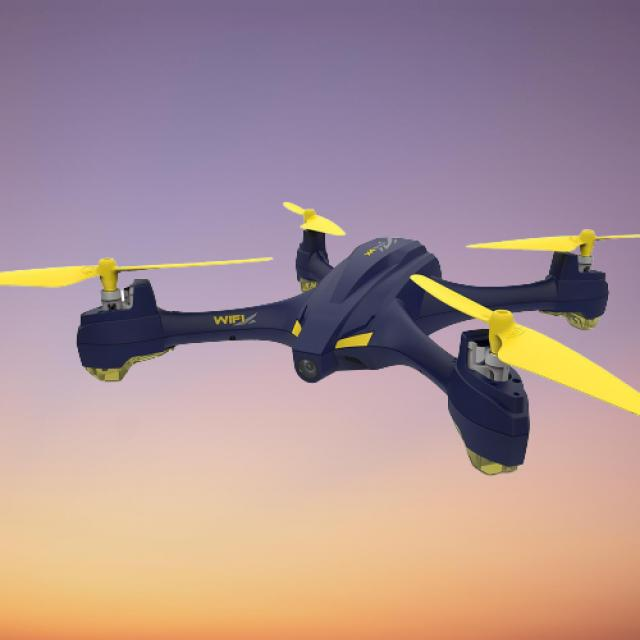drones: (1, 204, 640, 482)
